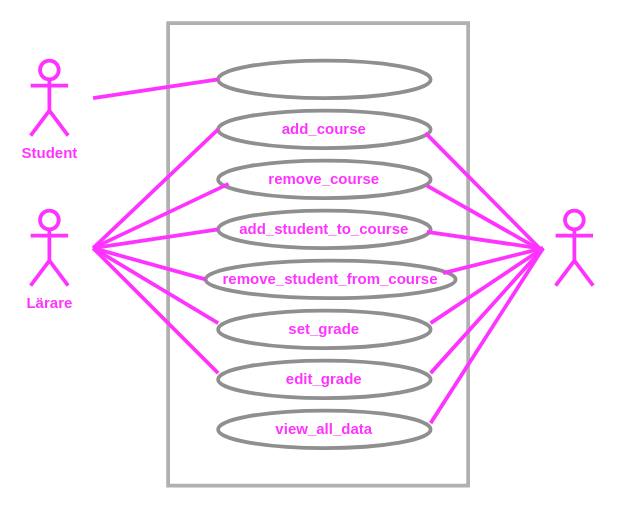
The diagram is 619 pixels wide and 509 high, and some of its shapes have lost their labels. Each missing label, with the centre of its shape:
Admin: pixel 573 247
view_courses_and_grades: pixel 324 78
